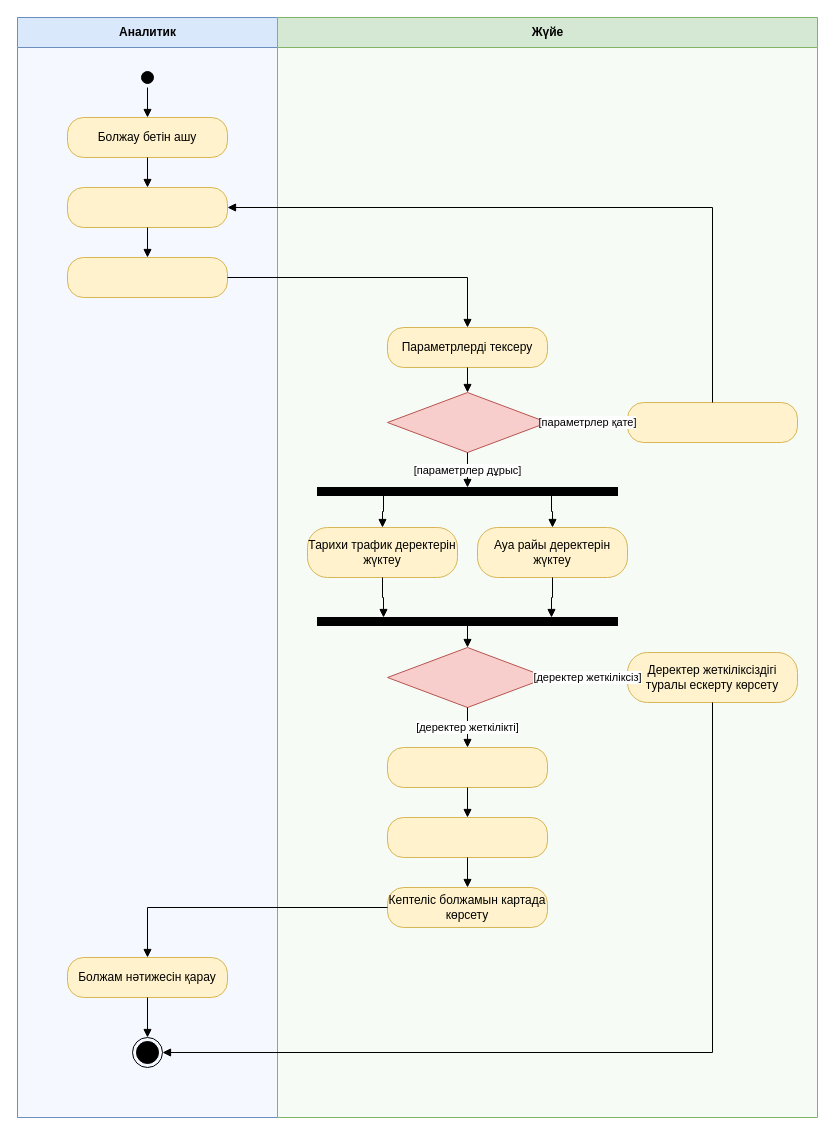
Image size: 835x1135. Some labels were removed from this diagram. The centre of each missing label's shape, as x and y in pixels:
"Аймақ пен уақыт аралығын таңдау" goes at point (147, 207).
"Болжам нәтижесін сақтау" goes at point (467, 837).
"Болжам сұрауын жіберу" goes at point (147, 277).
"Болжау моделін іске қосу" goes at point (467, 767).
"Қате туралы хабарлама көрсету" goes at point (712, 422).
